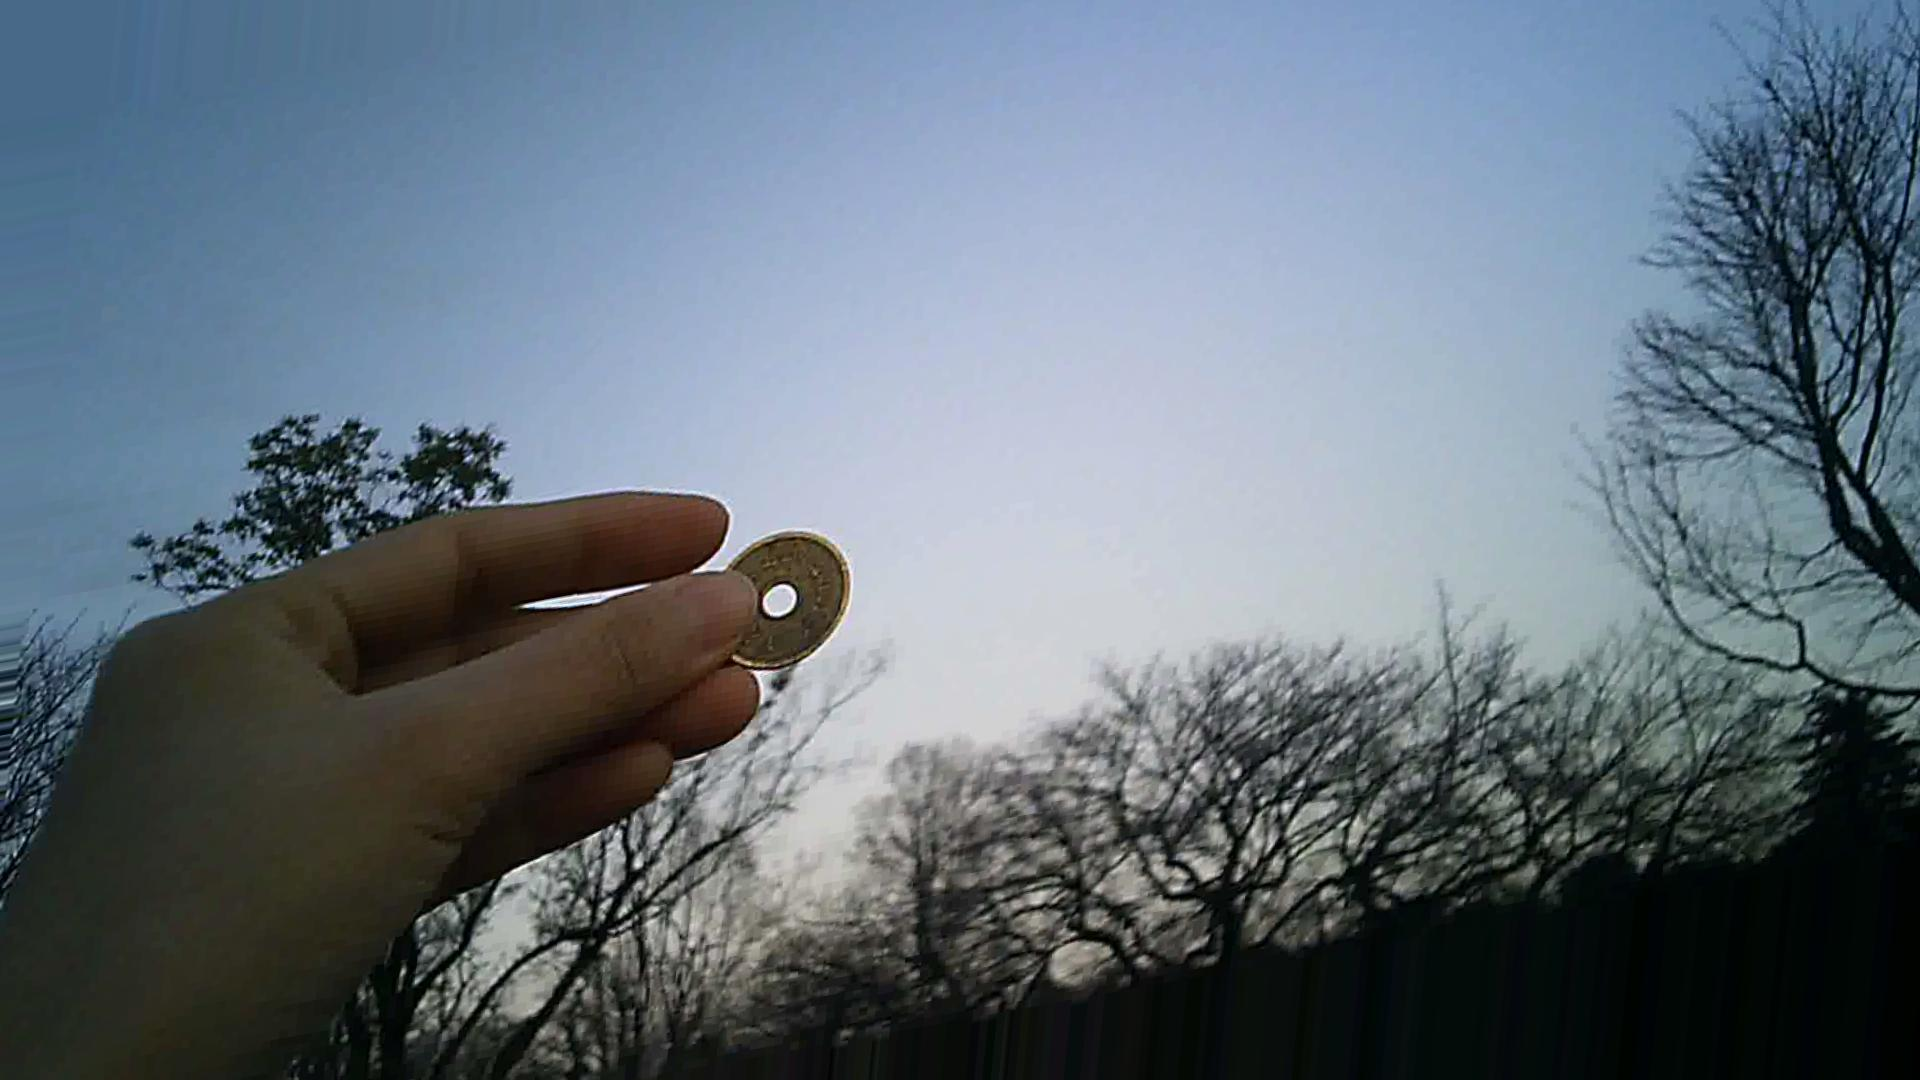5 Yen: (699, 514, 870, 694)
